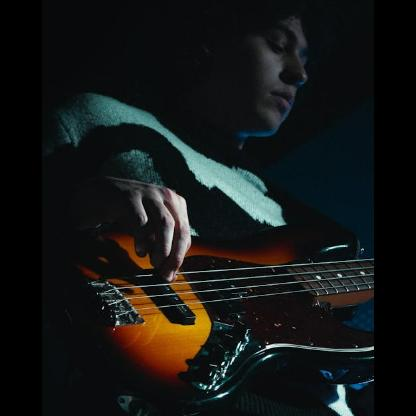bass: (62, 220, 374, 410)
